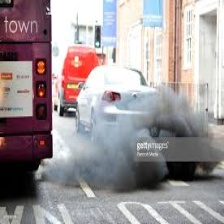smoke: (63, 106, 217, 189)
